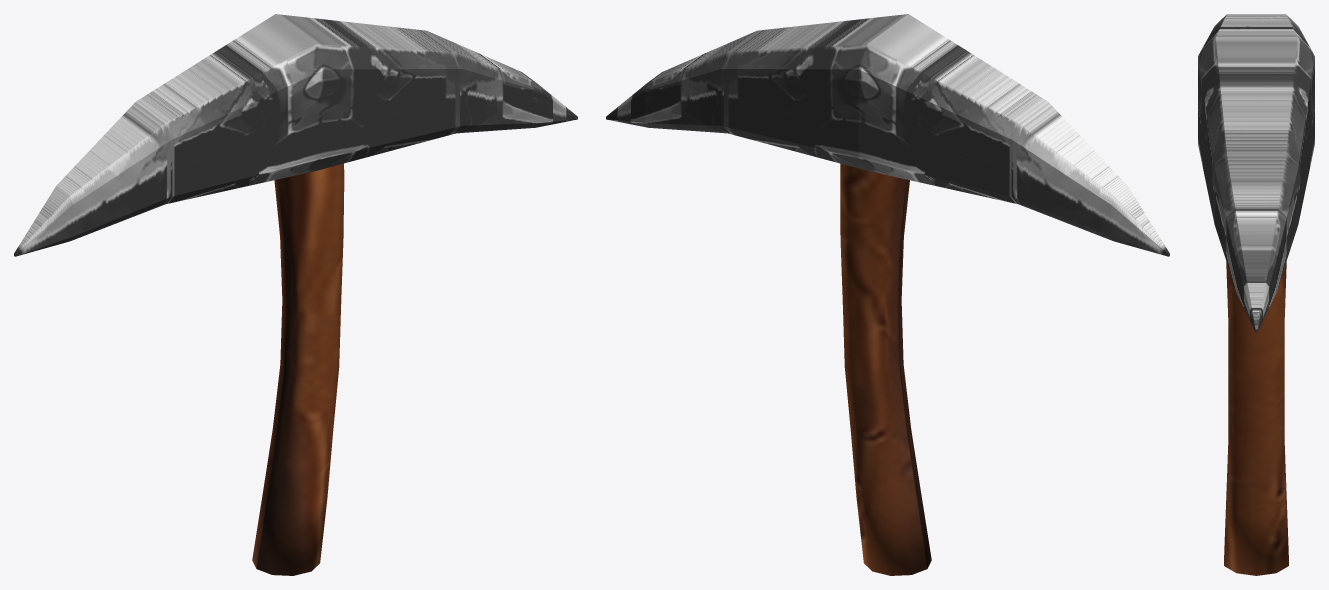
The model's file is picareta-v6.glb.
3 views of the same model, side by side, from view 1: azimuth 30°, elevation 25°; view 2: azimuth 150°, elevation 25°; view 3: azimuth 270°, elevation 25° (orthographic).
Parts seen in each view (by area): view 1: PickaxeHead, RecoveredHandle; view 2: PickaxeHead, RecoveredHandle; view 3: PickaxeHead, RecoveredHandle.
Boxes of the visible parts, bbox=[...] form: PickaxeHead: bbox=[14, 14, 577, 256]; RecoveredHandle: bbox=[252, 163, 344, 575]; PickaxeHead: bbox=[606, 14, 1169, 256]; RecoveredHandle: bbox=[840, 163, 931, 575]; PickaxeHead: bbox=[1198, 14, 1314, 332]; RecoveredHandle: bbox=[1224, 262, 1288, 575].
Size of the model in its own units: 1.56 by 1.41 by 0.2809.
2 materials, 2 textured.
